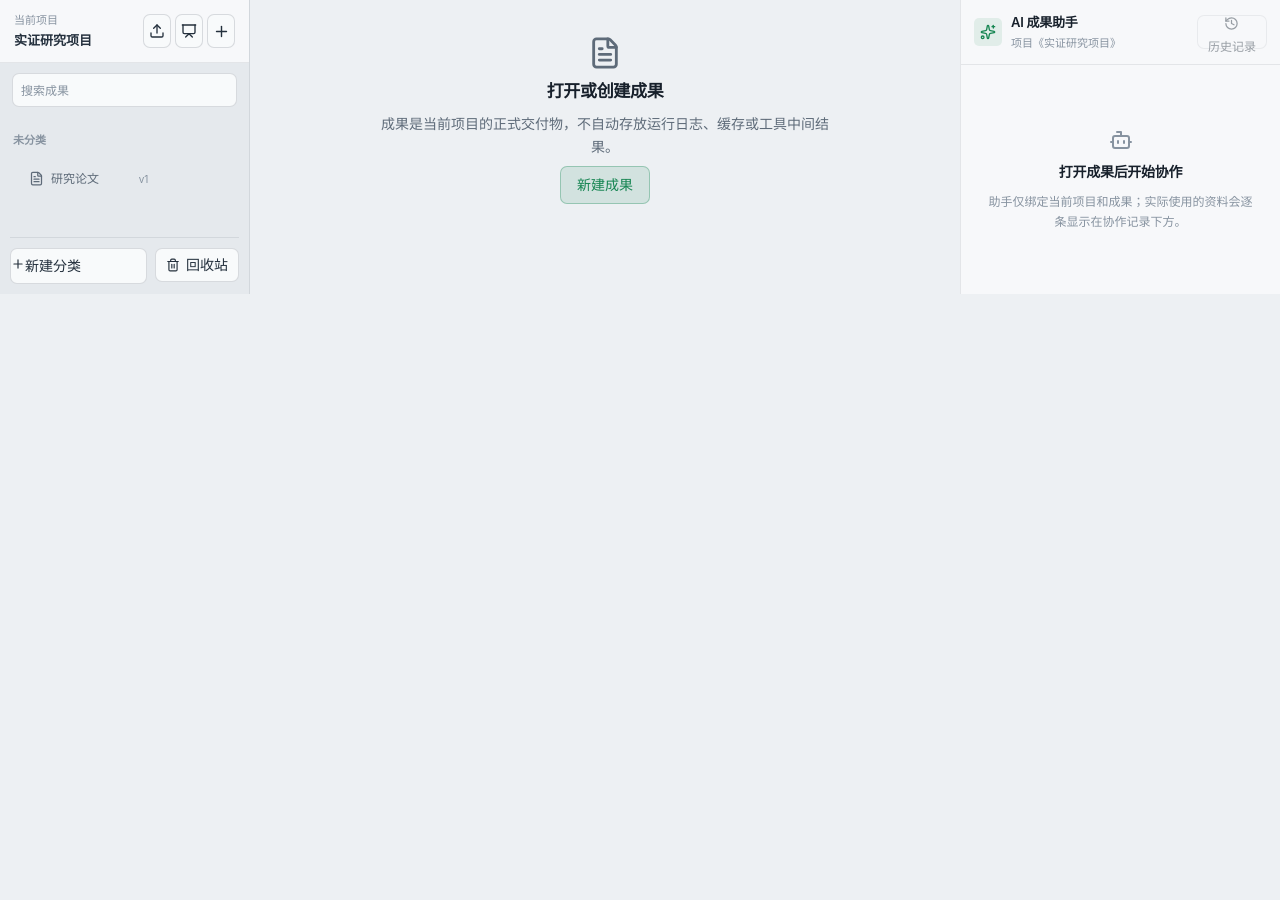
OutcomesPage › states when a persisted assistant record has no extra sources in both the sidebar and history
Step 1. Click the text "研究论文" → point(75, 179), box [51,171,99,186]
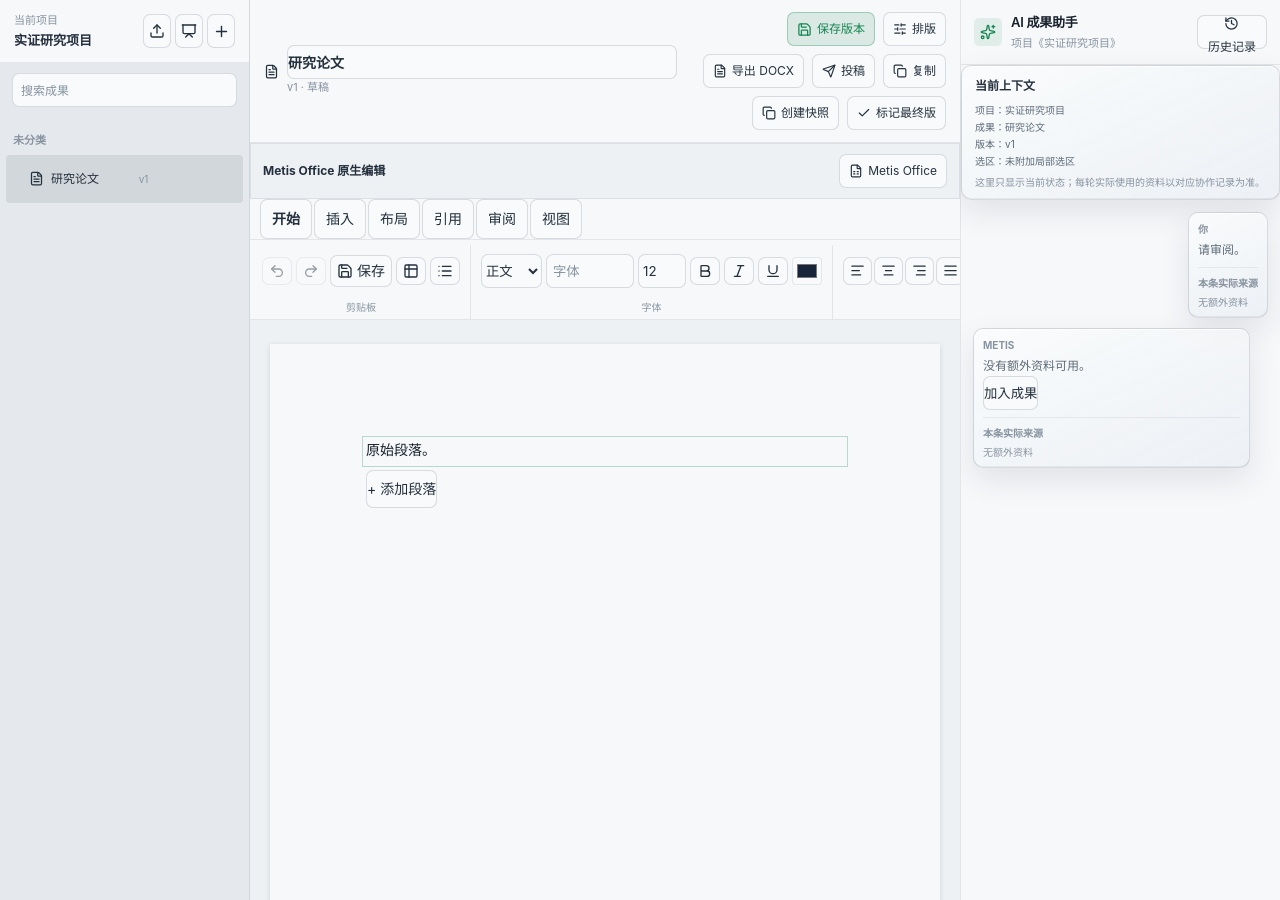
Check: the text "无额外资料" is shown 2 times, box [1198,296,1248,308]; [983,446,1033,458]
Step 2. Click the button with aria-label "查看成果协作历史" → point(1232, 32), box [1197,15,1267,49]
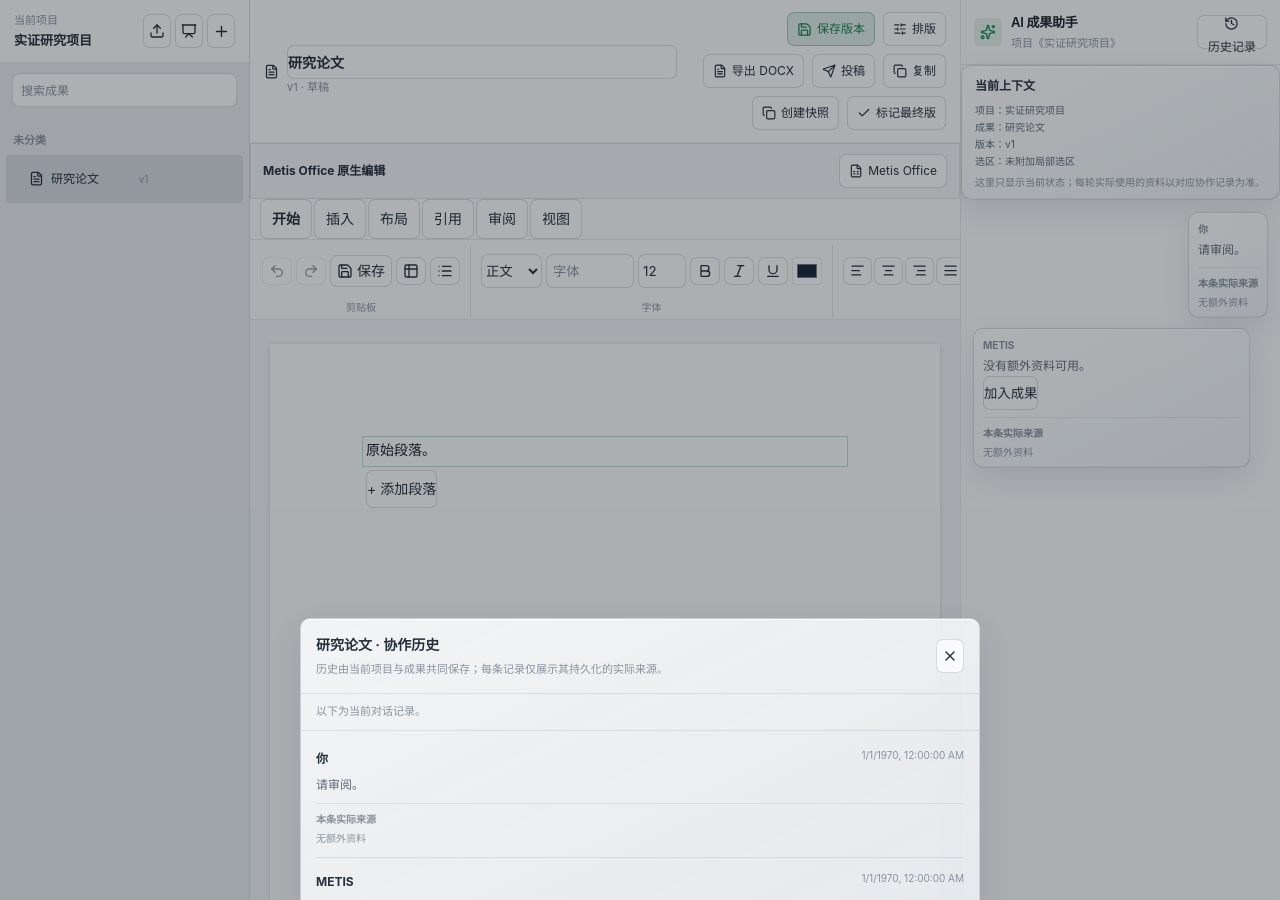
Check: the text "无额外资料" is shown 4 times
